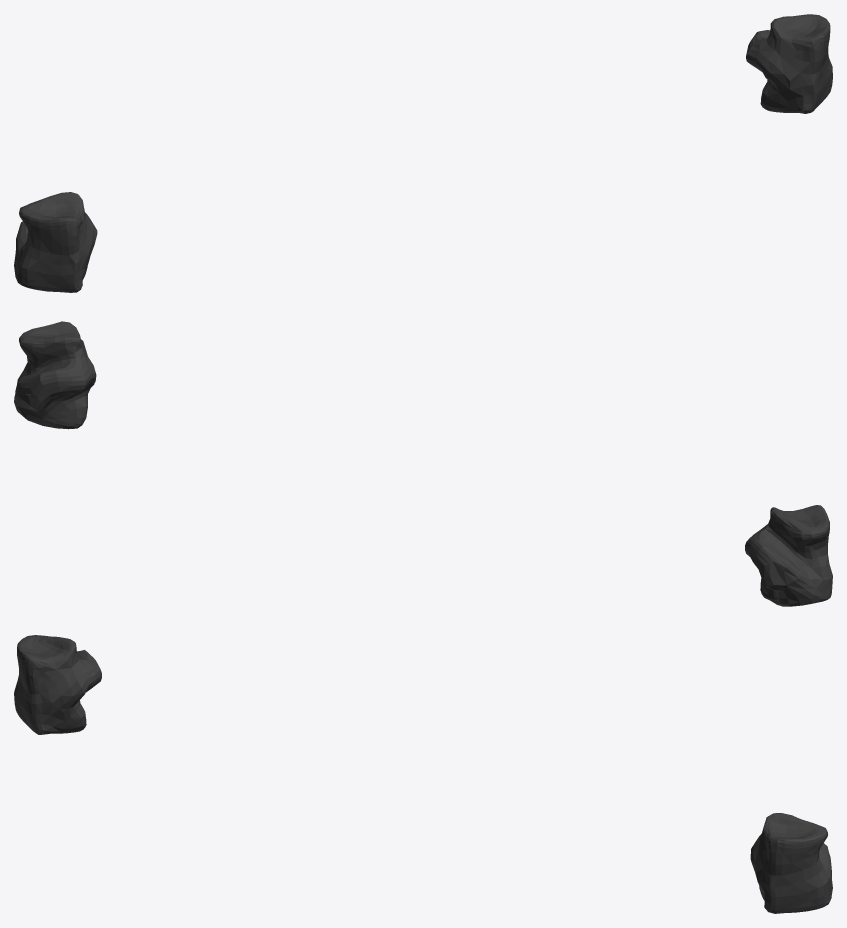
Rendered from Tarsal_fourth_1.glb.
3 views of the same model, one above another, from view 1: azimuth 30°, elevation 25°; view 2: azimuth 150°, elevation 25°; view 3: azimuth 330°, elevation 25° (orthographic).
Visible parts, largest first — view 1: Tarsal_fourth_1; view 2: Tarsal_fourth_1; view 3: Tarsal_fourth_1.
Part boxes in pixels (x1,y1,x2,y2): Tarsal_fourth_1: [14, 14, 832, 292]; Tarsal_fourth_1: [14, 321, 832, 606]; Tarsal_fourth_1: [14, 635, 832, 913].
Bounding box in the file's own units: 0.00547 × 0.000579 × 0.000526.
1 material, 1 textured.
